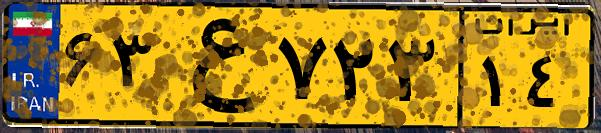1: (475, 38, 525, 113)
2: (330, 28, 385, 110)
3: (385, 28, 445, 110), (110, 28, 158, 98)
4: (525, 38, 570, 115)
6: (57, 26, 110, 100)
7: (270, 28, 330, 110)
ع: (158, 12, 270, 120)
